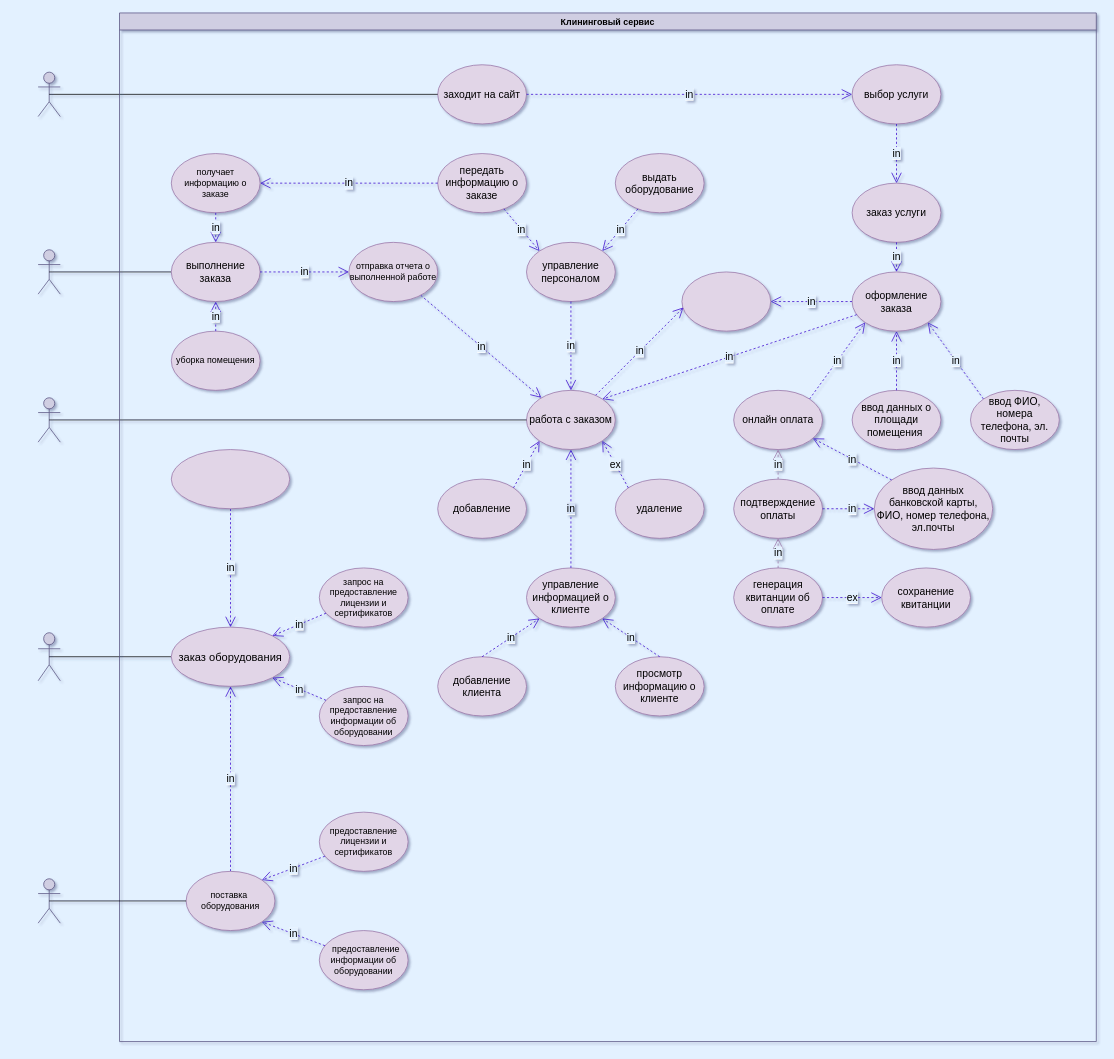
This 1114x1059 diagram has some shape labels left out. Here are the shapes that lost their labels. From the top down, the centre of each, then its label:
At pixel 48 94: "клиент".
At pixel 48 271: "персонал".
At pixel 726 301: "получение услуги".
At pixel 48 419: "администратор".
At pixel 230 479: "вести учет поступления и выдачи оборудования со склада".
At pixel 48 656: "Завскладом".
At pixel 48 900: "поставщик".
